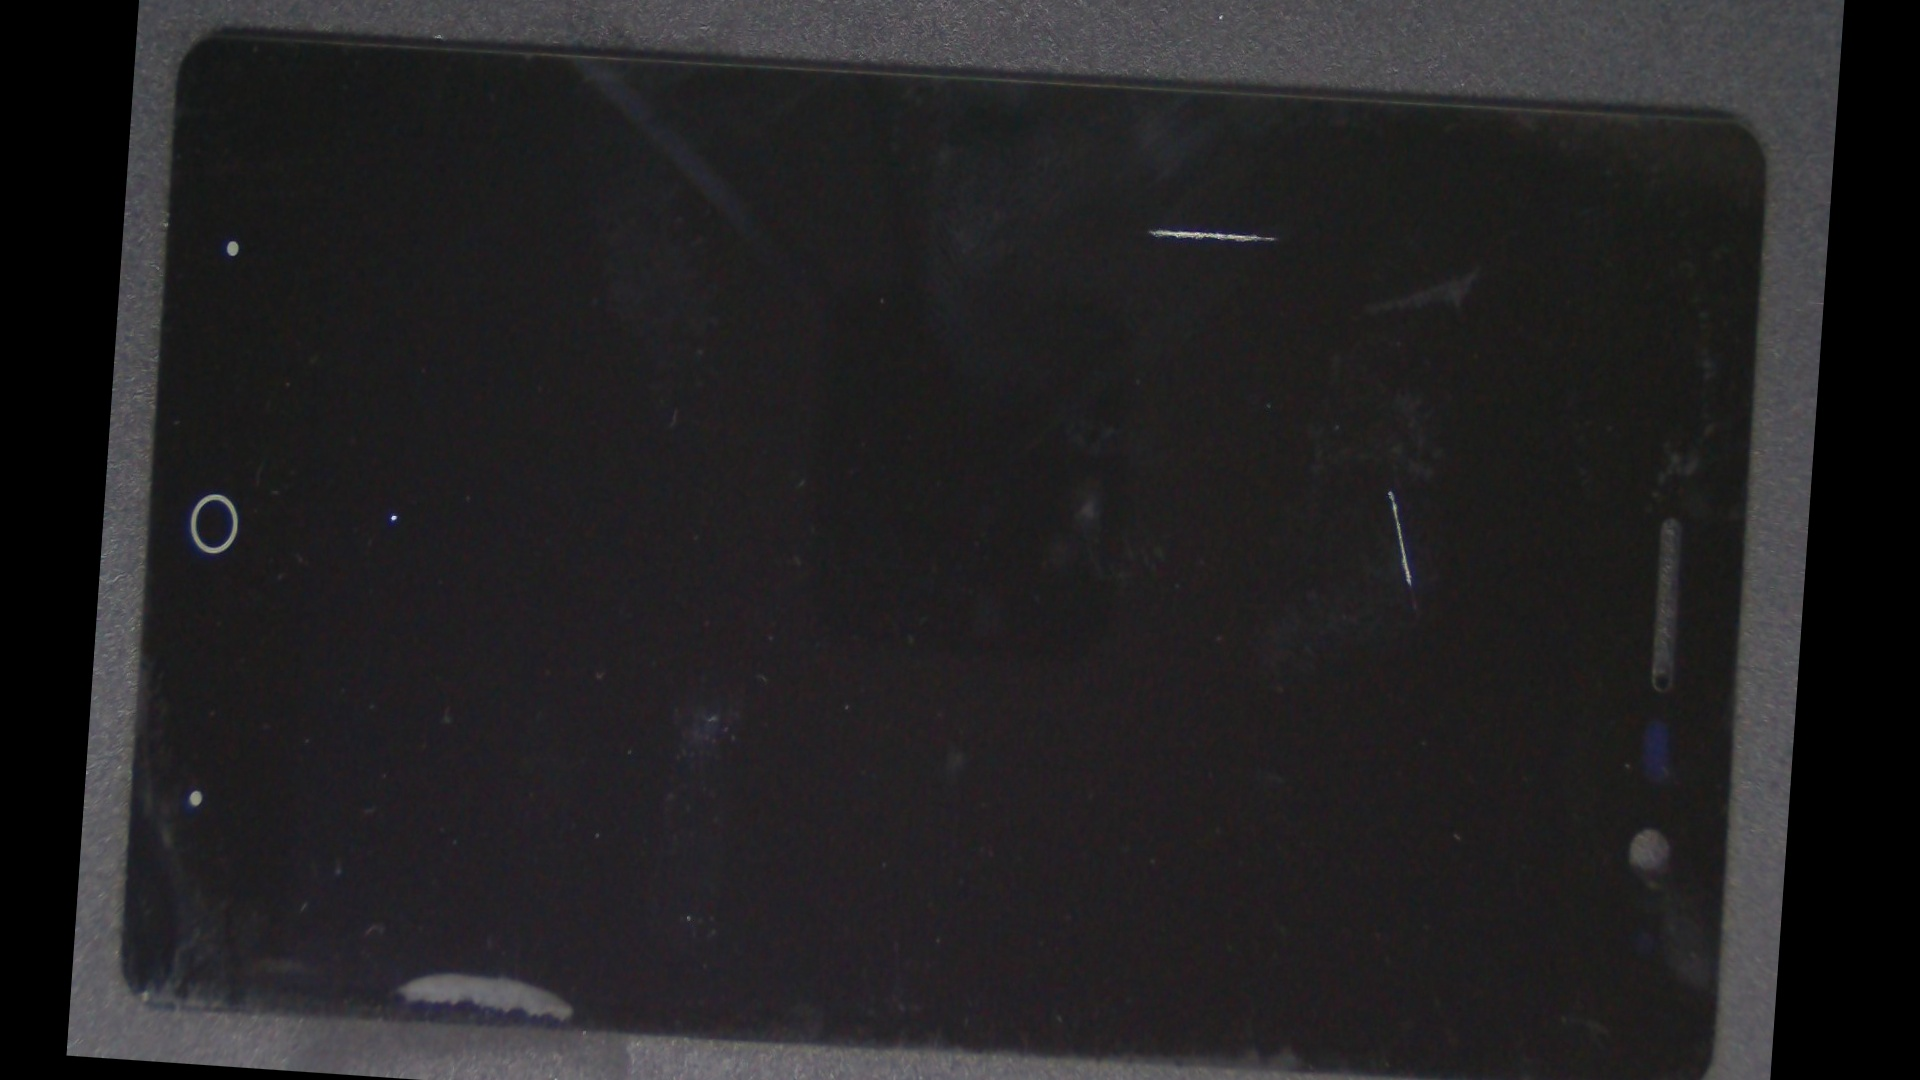oil: (732, 164, 1828, 800), (634, 33, 1687, 421), (225, 177, 556, 853)
